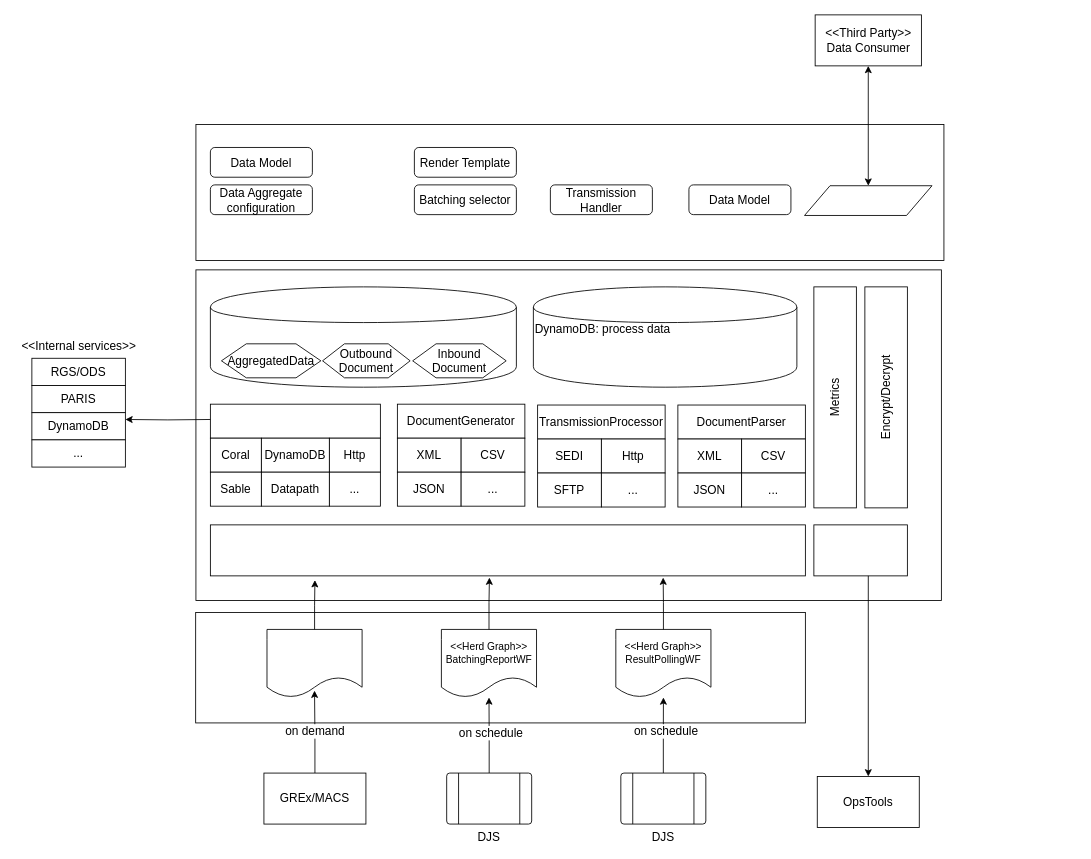
Some shapes in this 1091 by 859 pixel diagram are drawn without their labels. The box of each missing label's shape, as (x1, y1, x2, y2) in pixels:
<<Herd Graph>> DataHandlingWF: (266, 629, 362, 697)
Coral Activities: (813, 524, 907, 576)
Data Exchange Channel: (804, 185, 932, 215)
DataAggregator: (210, 403, 380, 438)
Framework: (195, 269, 941, 601)
Herd SIL Activities: (210, 524, 805, 576)
S3: intermediate data: (210, 286, 516, 387)
Use case - ISA Screening: (195, 124, 944, 261)
workflow engine - HERD: (195, 612, 805, 723)
